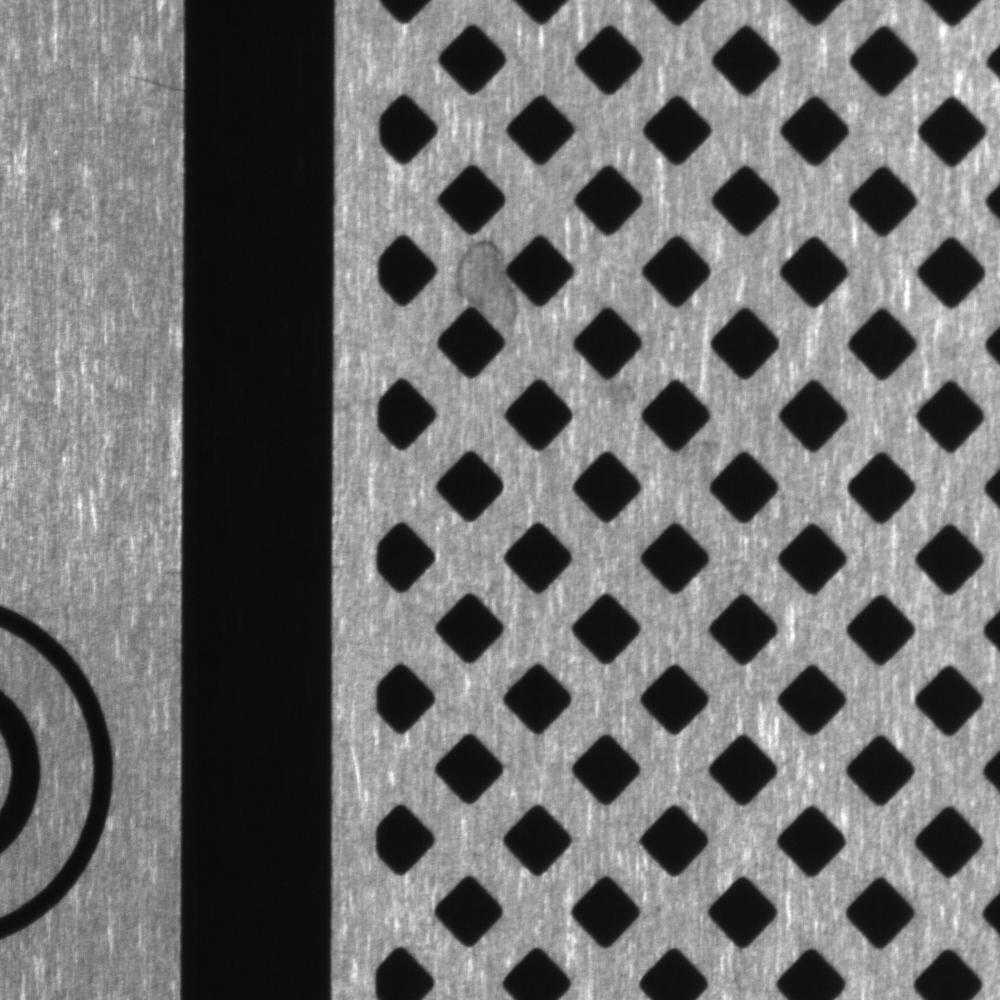Discolor: (433, 221, 541, 350)
Scar: (106, 63, 184, 101)
